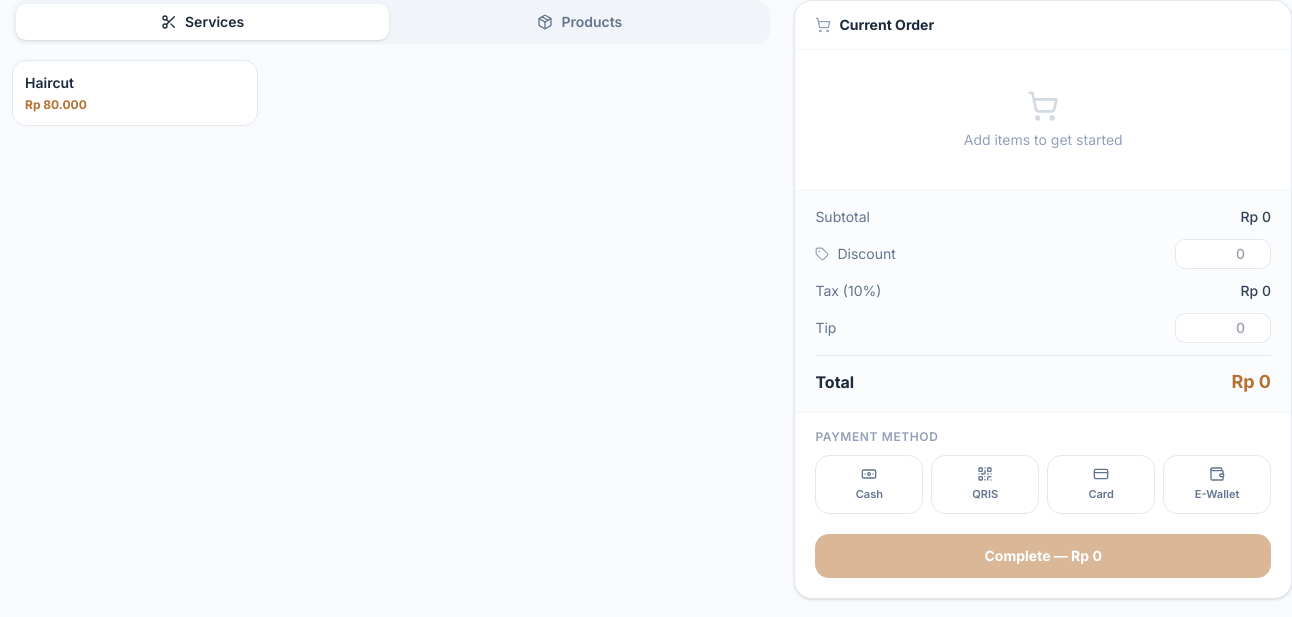
Test: pos feature › POSCheckout › disables out of stock products
Click the button "Products": click(580, 22) [393, 4, 766, 40]
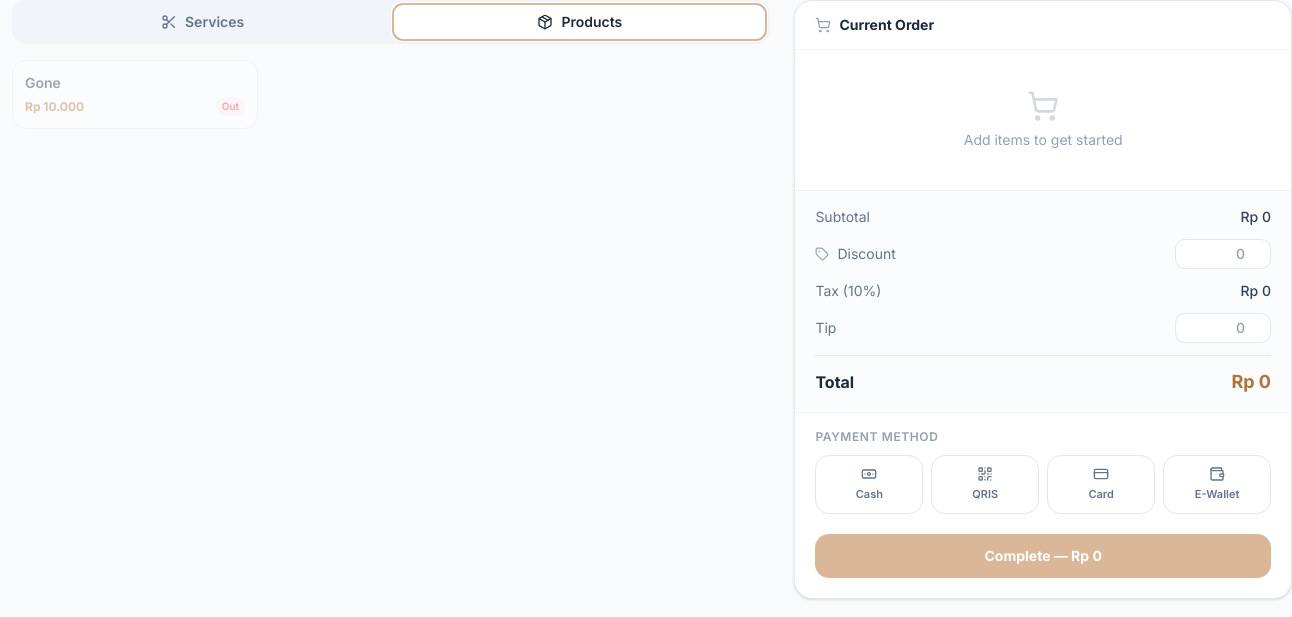
Now the text "Gone" is shown, box [25, 73, 61, 93]
Now the button "Gone Rp 10.000 Out" is disabled, box [12, 60, 258, 129]
